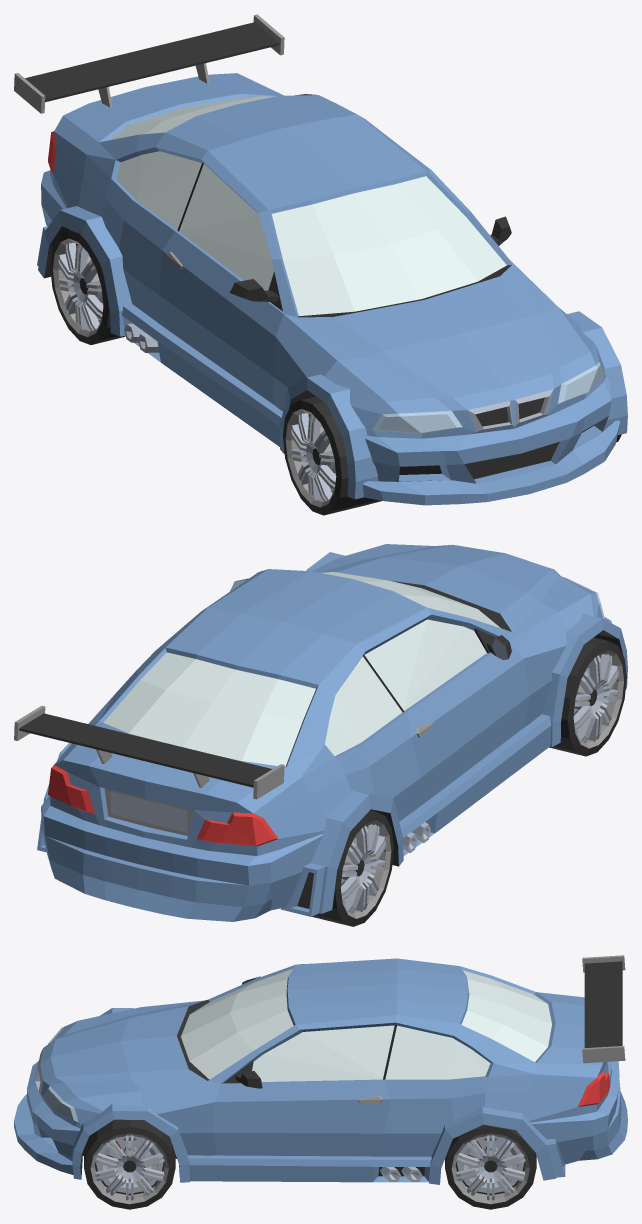
3 renders of one model, top to bottom at view 1: azimuth 30°, elevation 25°; view 2: azimuth 150°, elevation 25°; view 3: azimuth 270°, elevation 25°, orthographic. The views are drawn at different scales.
Visible parts, largest first — view 1: e46_body, e46_tuning_1, e46_tuning_wheel_FR, e46_tuning_wheel_RR; view 2: e46_body, e46_tuning_1, e46_tuning_wheel_FR, e46_tuning_wheel_RR; view 3: e46_body, e46_tuning_1, e46_tuning_wheel_FL, e46_tuning_wheel_RL, e46_wheel_RL, e46_wheel_FL.
Boxes of the visible parts, x1=… form: e46_body: x1=41, y1=73, x2=611, y2=483; e46_tuning_1: x1=14, y1=14, x2=627, y2=505; e46_tuning_wheel_FR: x1=283, y1=396, x2=377, y2=515; e46_tuning_wheel_RR: x1=50, y1=229, x2=124, y2=344; e46_body: x1=41, y1=544, x2=611, y2=910; e46_tuning_1: x1=14, y1=552, x2=627, y2=921; e46_tuning_wheel_FR: x1=549, y1=637, x2=626, y2=756; e46_tuning_wheel_RR: x1=312, y1=810, x2=393, y2=926; e46_body: x1=27, y1=958, x2=620, y2=1176; e46_tuning_1: x1=14, y1=955, x2=627, y2=1184; e46_tuning_wheel_FL: x1=84, y1=1119, x2=175, y2=1209; e46_tuning_wheel_RL: x1=445, y1=1124, x2=536, y2=1209; e46_wheel_RL: x1=445, y1=1135, x2=525, y2=1195; e46_wheel_FL: x1=84, y1=1135, x2=164, y2=1195.
Bounding box in the file's own units: 3.4 × 1.05 × 1.44.
